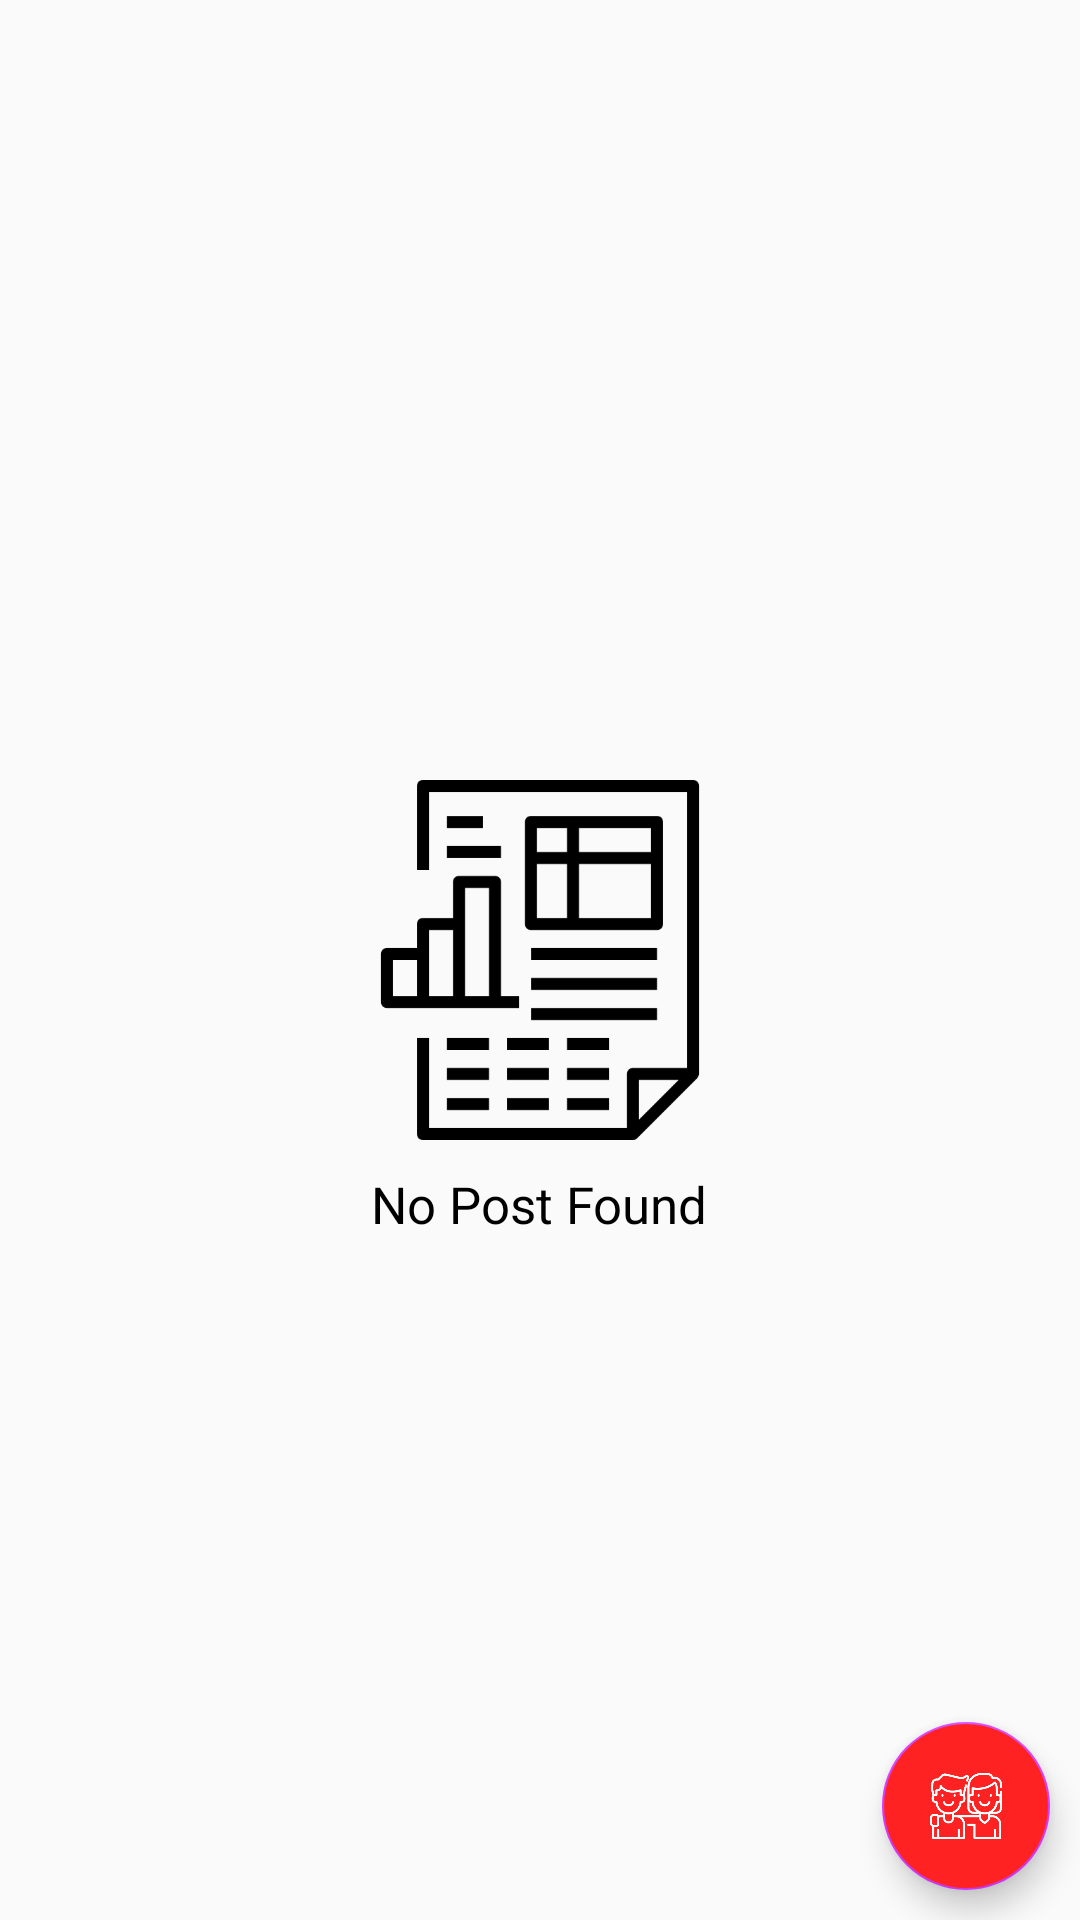

Screen size 1080px x 1920px. Icon name, then its center in pixels as point (x, y):
friendshipwhite: point (966, 1806)
news: point (540, 960)
